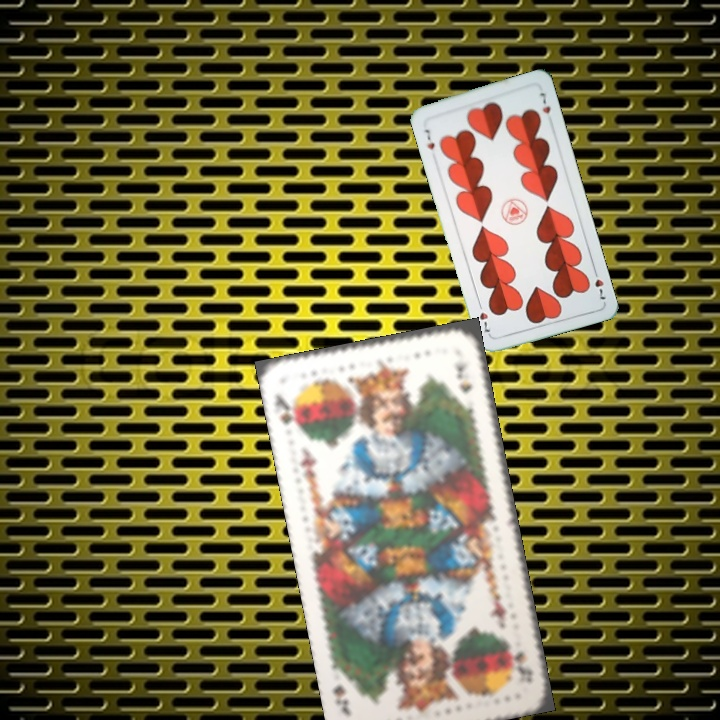H7: (589, 264, 608, 302), (421, 125, 437, 152)
SK: (271, 390, 302, 434), (508, 647, 535, 686)
